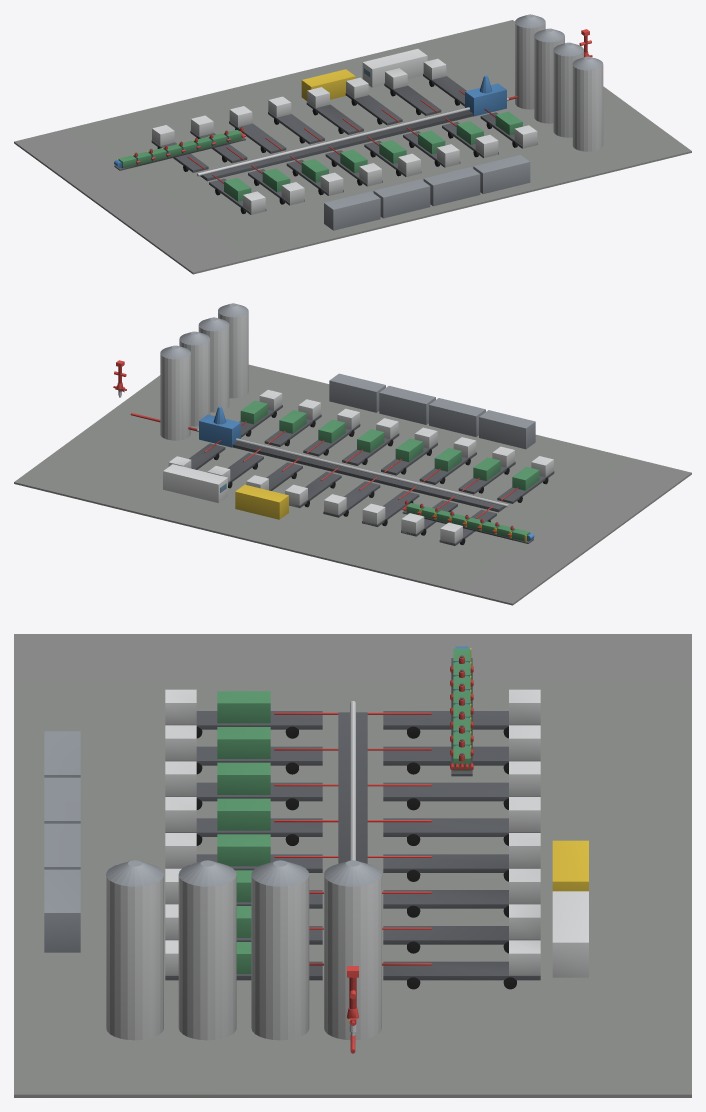
File: frac_high.glb
3 renders of one model, top to bottom at view 1: azimuth 30°, elevation 25°; view 2: azimuth 150°, elevation 25°; view 3: azimuth 270°, elevation 25°, orthographic. The views are drawn at different scales.
Visible parts, largest first — view 1: site__pad, carrier__trailers, mudtanks__tanks, mudtanks__degasser, mudpumps__fluidend2, choke__manifold, mudpumps__powerend, generators__vfd, mudtanks__solids, generators__gensets; view 2: site__pad, carrier__trailers, mudtanks__tanks, mudtanks__degasser, mudpumps__fluidend2, choke__manifold, generators__vfd, mudpumps__powerend, generators__gensets, mudtanks__solids; view 3: site__pad, carrier__trailers, mudtanks__tanks, mudpumps__fluidend2, mudtanks__degasser, choke__manifold, generators__vfd, mudpumps__powerend, generators__gensets.
Part boxes in pixels (bbox=[...]): site__pad: bbox=[14, 20, 691, 274]; carrier__trailers: bbox=[151, 58, 537, 214]; mudtanks__tanks: bbox=[515, 14, 603, 151]; mudtanks__degasser: bbox=[324, 155, 530, 230]; mudpumps__fluidend2: bbox=[224, 111, 522, 201]; choke__manifold: bbox=[187, 90, 517, 183]; mudpumps__powerend: bbox=[114, 129, 245, 170]; generators__vfd: bbox=[362, 49, 427, 87]; mudtanks__solids: bbox=[465, 75, 506, 116]; generators__gensets: bbox=[301, 69, 355, 100]; site__pad: bbox=[14, 364, 691, 605]; carrier__trailers: bbox=[168, 390, 554, 545]; mudtanks__tanks: bbox=[160, 303, 248, 440]; mudtanks__degasser: bbox=[329, 373, 535, 449]; mudpumps__fluidend2: bbox=[240, 400, 539, 490]; choke__manifold: bbox=[130, 413, 518, 518]; generators__vfd: bbox=[163, 464, 227, 502]; mudpumps__powerend: bbox=[402, 503, 533, 543]; generators__gensets: bbox=[235, 484, 288, 519]; mudtanks__solids: bbox=[199, 406, 240, 447]; site__pad: bbox=[14, 634, 691, 1097]; carrier__trailers: bbox=[165, 689, 540, 989]; mudtanks__tanks: bbox=[106, 860, 381, 1040]; mudpumps__fluidend2: bbox=[217, 691, 270, 973]; mudtanks__degasser: bbox=[44, 731, 80, 952]; choke__manifold: bbox=[274, 701, 431, 1053]; generators__vfd: bbox=[552, 891, 588, 977]; mudpumps__powerend: bbox=[451, 648, 472, 776]; generators__gensets: bbox=[552, 840, 588, 891].
Bounding box in the file's own units: 90 × 15.3 × 56.
